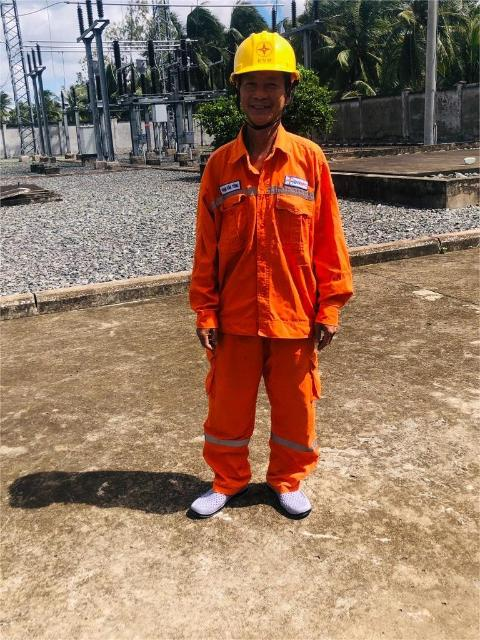helmet: (216, 32, 326, 86)
shoes: (179, 459, 252, 529), (265, 463, 330, 530), (452, 13, 471, 14)
